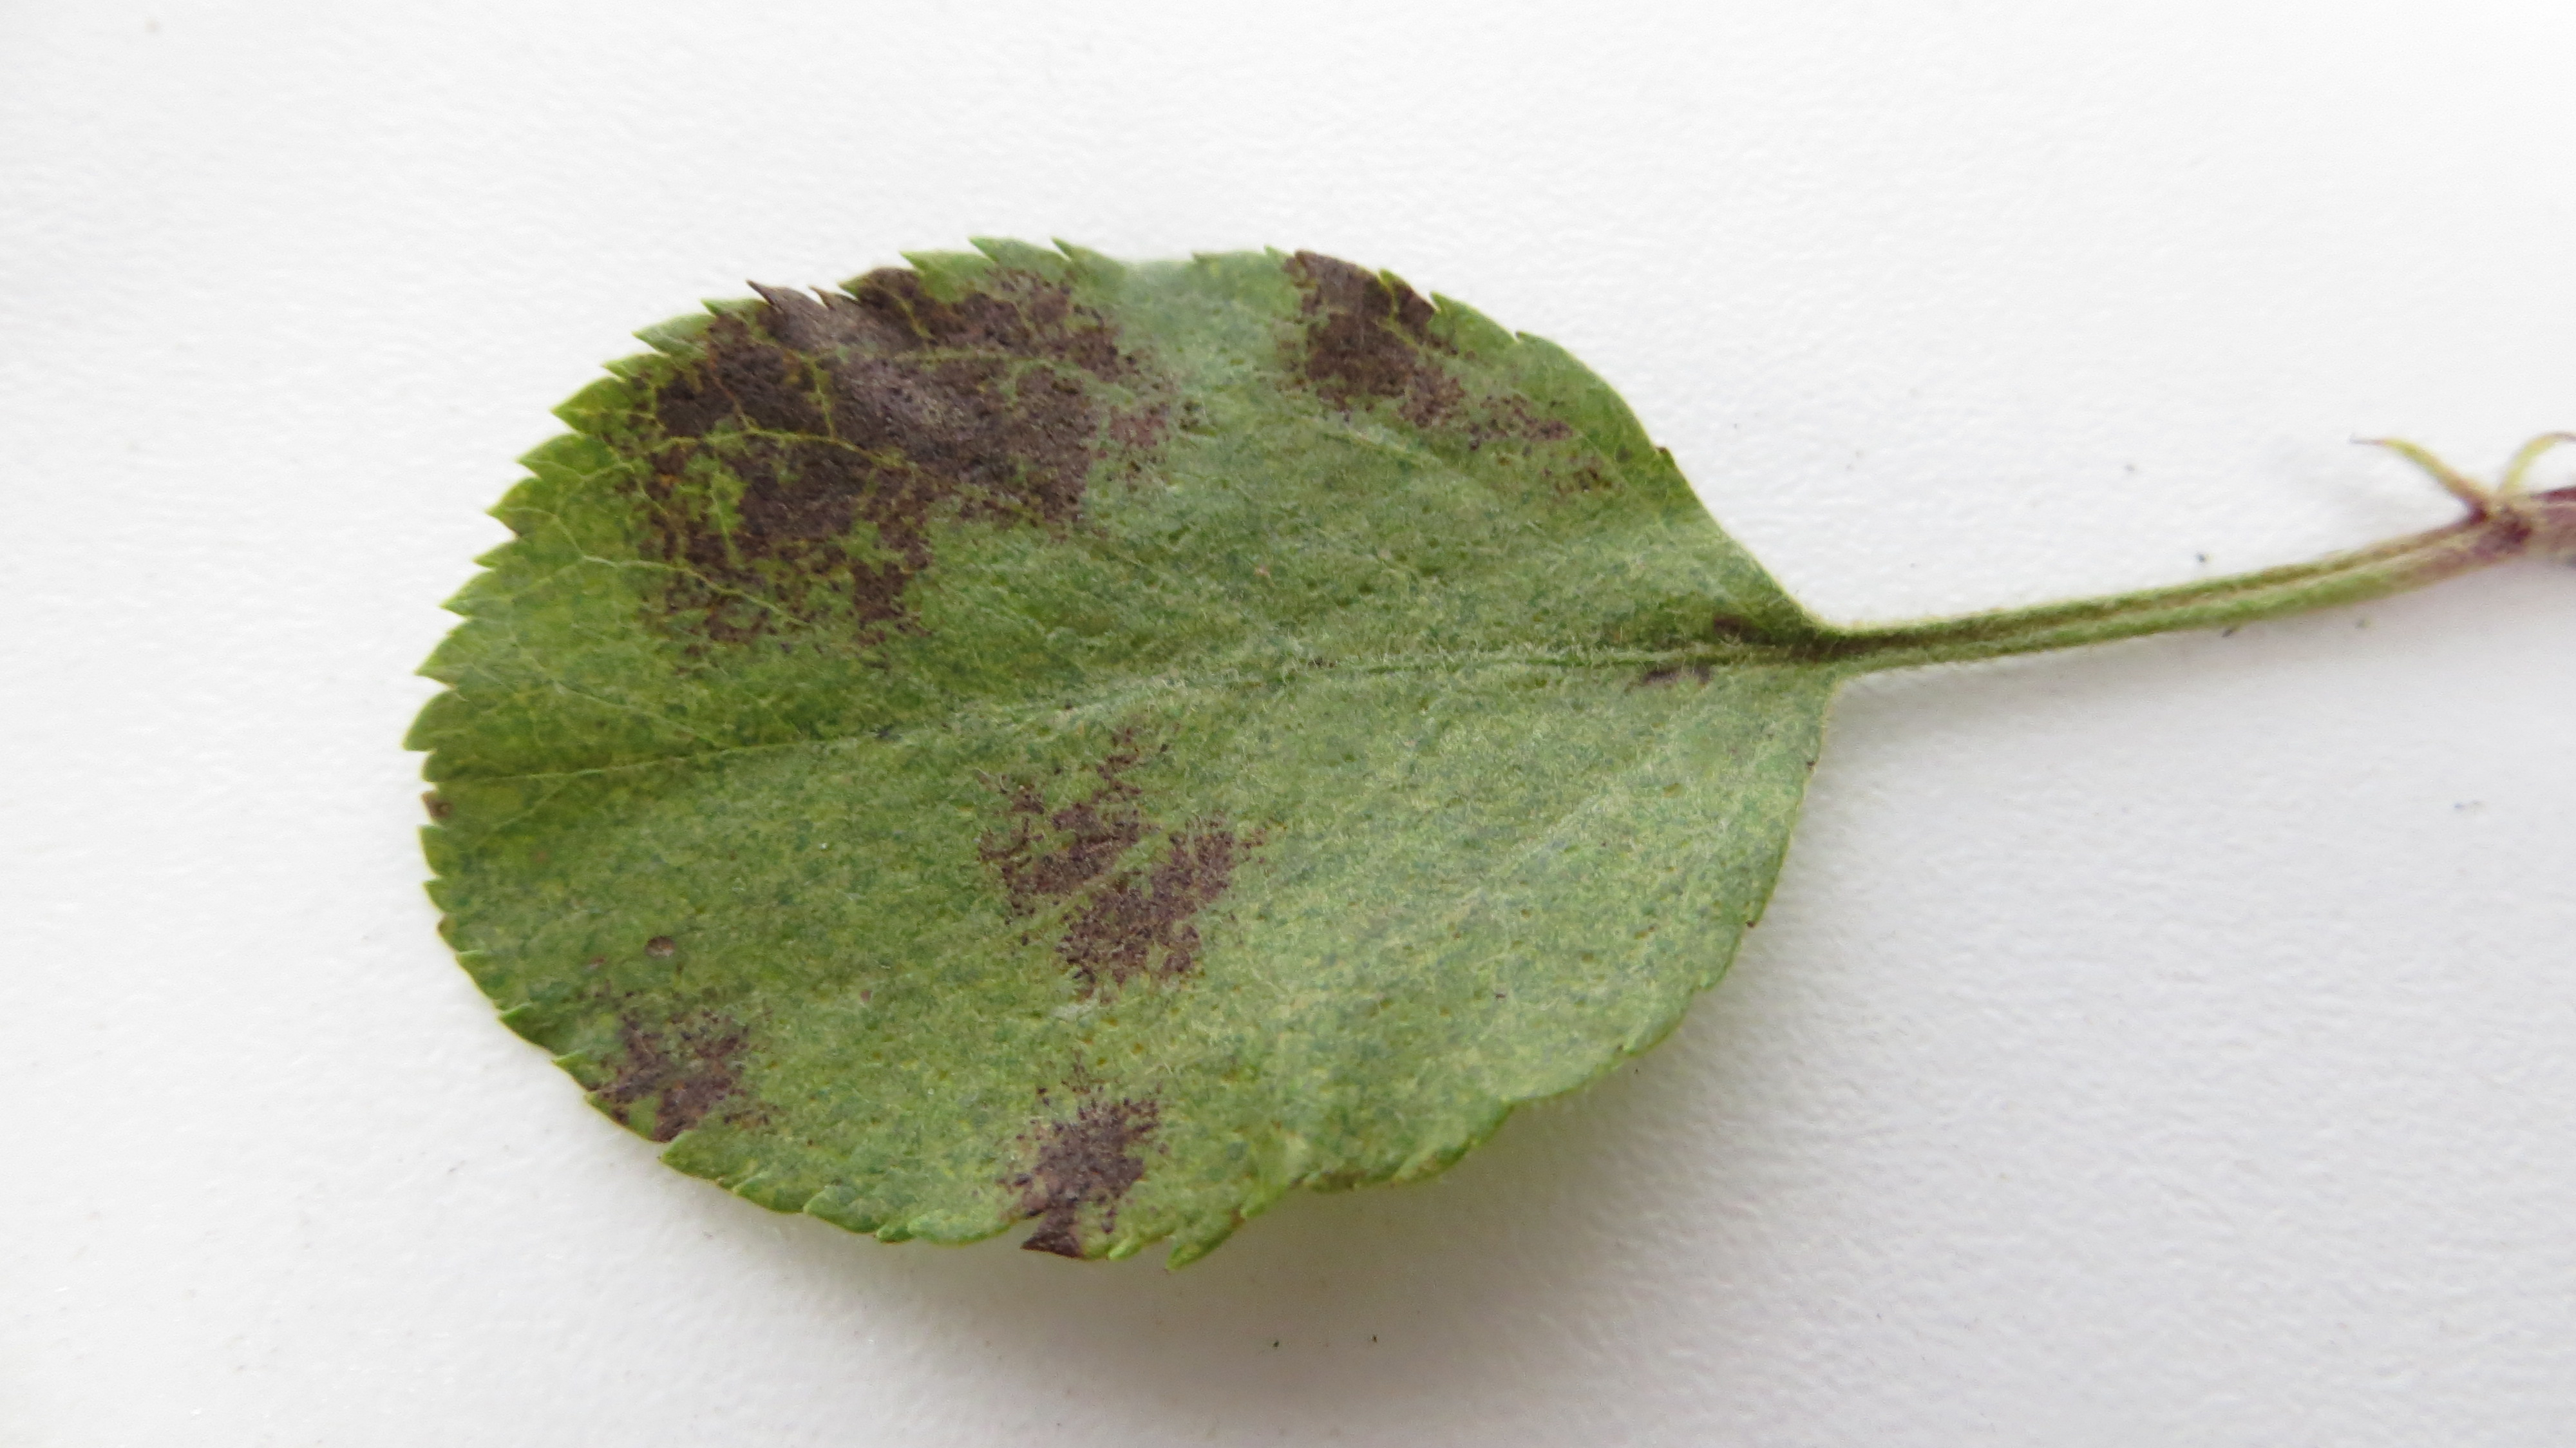sarna: (658, 262, 1175, 644), (1281, 244, 1476, 446), (589, 968, 780, 1151), (1000, 1062, 1164, 1273), (1065, 809, 1235, 995), (982, 738, 1154, 896), (1467, 356, 1615, 535), (1658, 597, 1826, 738)
